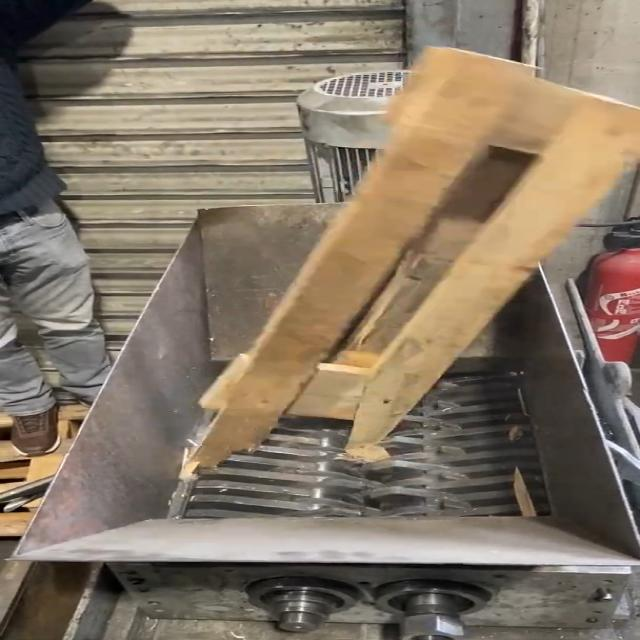Broyeur: (169, 352, 562, 538)
Palette: (166, 28, 640, 470)
